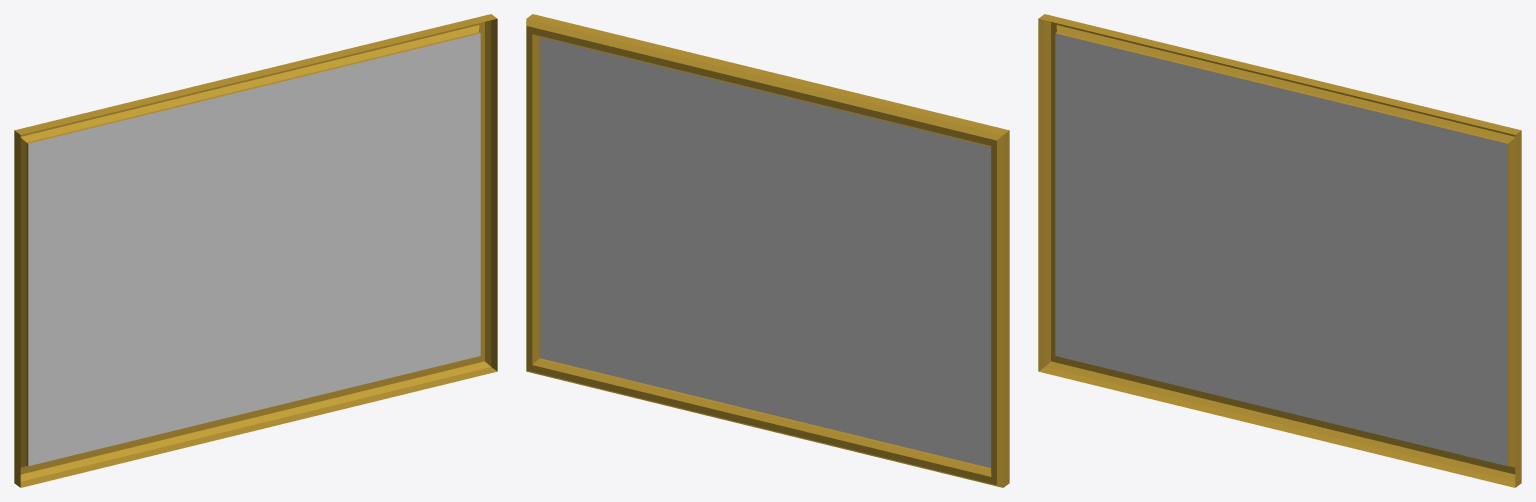
File: frame1.obj
3 renders of one model, left to right at view 1: azimuth 30°, elevation 25°; view 2: azimuth 150°, elevation 25°; view 3: azimuth 330°, elevation 25°, orthographic.
Parts seen in each view (by area): view 1: frame1; view 2: frame1; view 3: frame1.
Part boxes in pixels (x1,y1,x2,y2): frame1: [14, 14, 497, 487]; frame1: [526, 14, 1009, 487]; frame1: [1038, 14, 1521, 487].
Size of the model in its own units: 1.2 by 0.8475 by 0.041.
